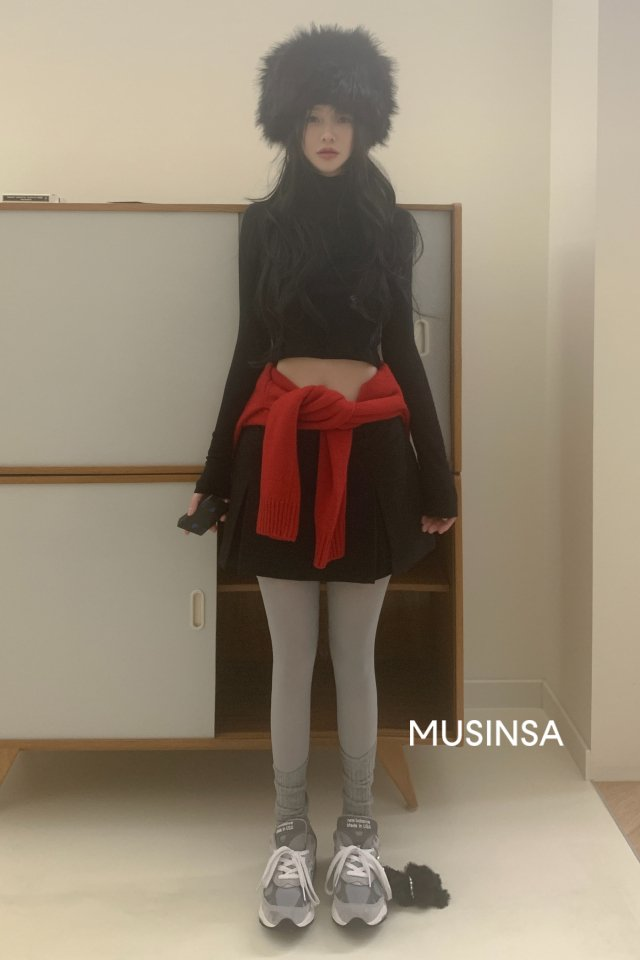Croptop: (235, 162, 423, 371)
Hat: (261, 29, 397, 145)
Shoes: (256, 817, 393, 933)
Skirt: (228, 400, 450, 584)
